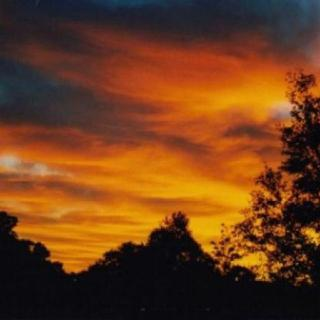Altostratus: (0, 0, 320, 278)
